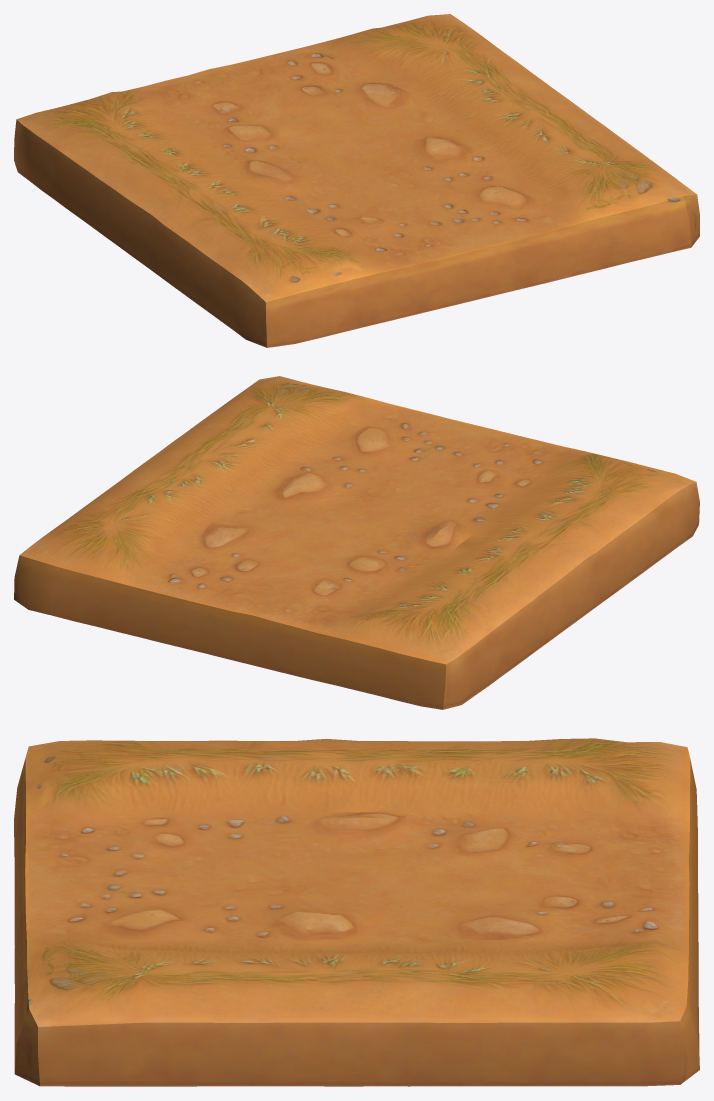
Rendered from t_Rustic_Terrain_Tile.glb.
3 renders of one model, top to bottom at view 1: azimuth 30°, elevation 25°; view 2: azimuth 150°, elevation 25°; view 3: azimuth 270°, elevation 25°, orthographic. The views are drawn at different scales.
Parts seen in each view (by area): view 1: output; view 2: output; view 3: output.
Boxes of the visible parts, box(x1,y1,x2,y2) form: output: box(14, 14, 699, 347); output: box(14, 376, 699, 709); output: box(14, 738, 699, 1086).
Bounding box in the file's own units: 2 × 0.2563 × 2.01.
1 material, 1 textured.
